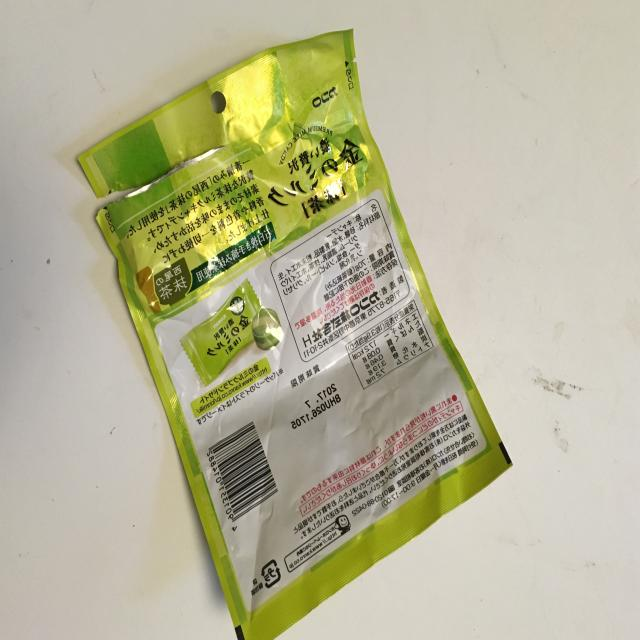plastic: (77, 27, 514, 639)
